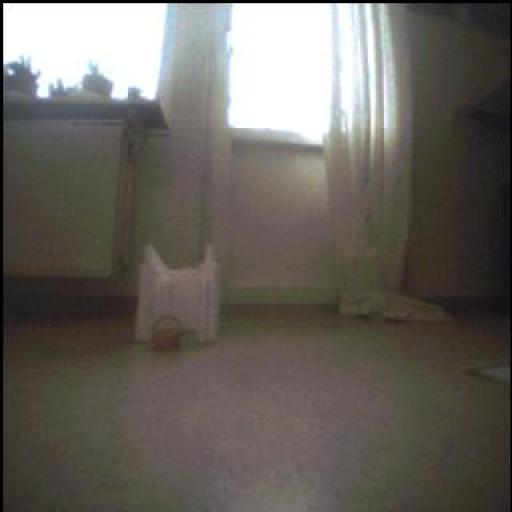Basket: (151, 315, 185, 352)
